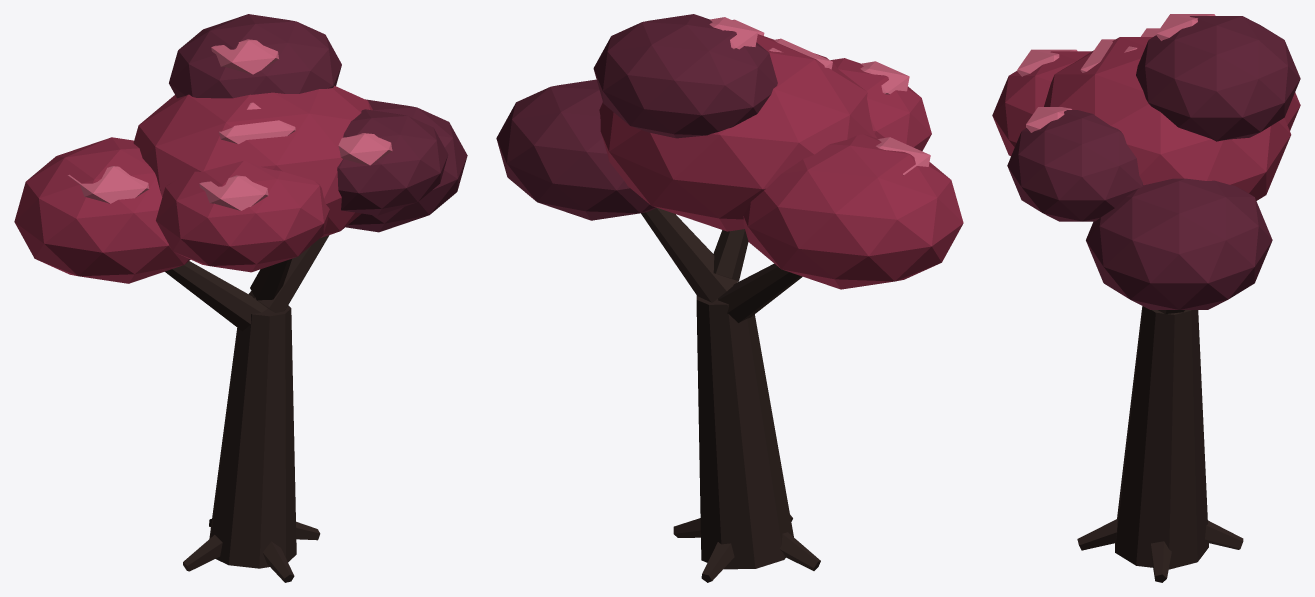
The model's file is tree.glb.
The picture shows the model from 3 angles, left to right: view 1: azimuth 30°, elevation 25°; view 2: azimuth 150°, elevation 25°; view 3: azimuth 270°, elevation 25°; orthographic projection. The views are drawn at different scales.
Parts seen in each view (by area): view 1: Tree; view 2: Tree; view 3: Tree.
Boxes of the visible parts, box(x1,y1,x2,y2) form: Tree: box(14, 14, 467, 582); Tree: box(496, 14, 963, 582); Tree: box(992, 14, 1300, 582).
Bounding box in the file's own units: 2.75 × 3.19 × 1.65.
